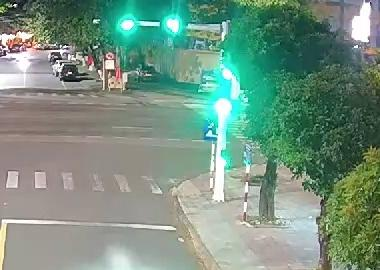green_light: (212, 94, 236, 118), (157, 15, 182, 37), (116, 15, 139, 35)
stop_line: (3, 219, 175, 230)
